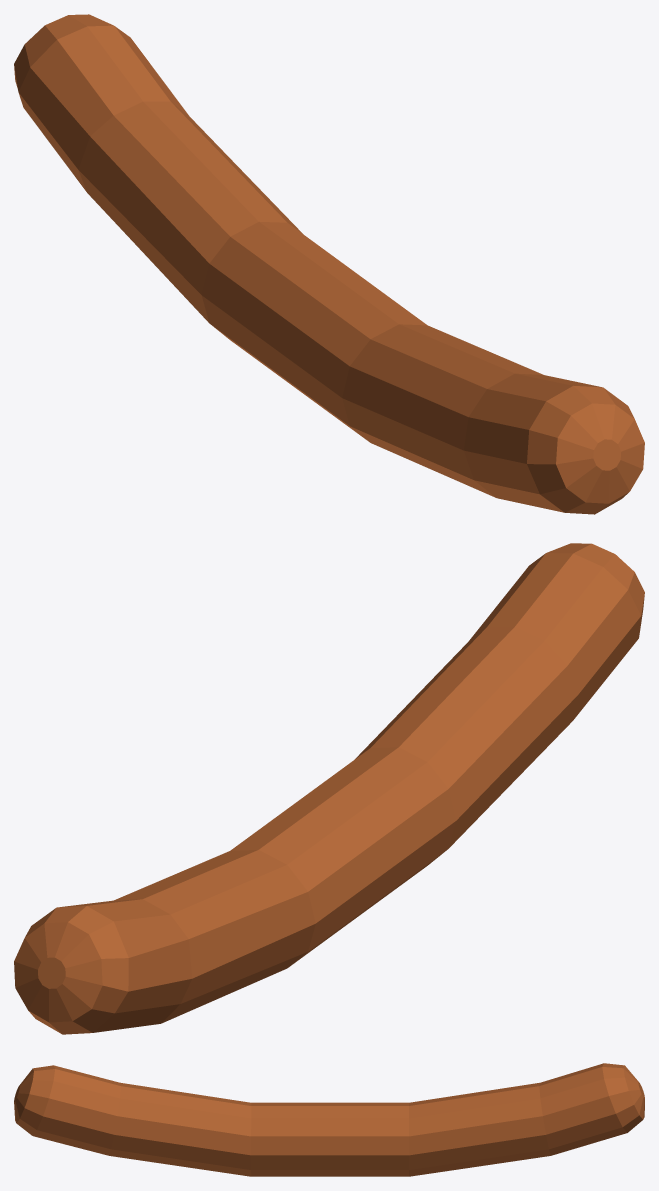
The model's file is sausageWellDone.fbx.
3 views of the same model, one above another, from view 1: azimuth 30°, elevation 25°; view 2: azimuth 150°, elevation 25°; view 3: azimuth 270°, elevation 25° (orthographic). The views are drawn at different scales.
Parts seen in each view (by area): view 1: Cylinder; view 2: Cylinder; view 3: Cylinder.
Boxes of the visible parts, bbox=[...] form: Cylinder: bbox=[14, 14, 644, 514]; Cylinder: bbox=[14, 543, 644, 1034]; Cylinder: bbox=[14, 1063, 644, 1176].
Bounding box in the file's own units: 200 × 316 × 1698.
